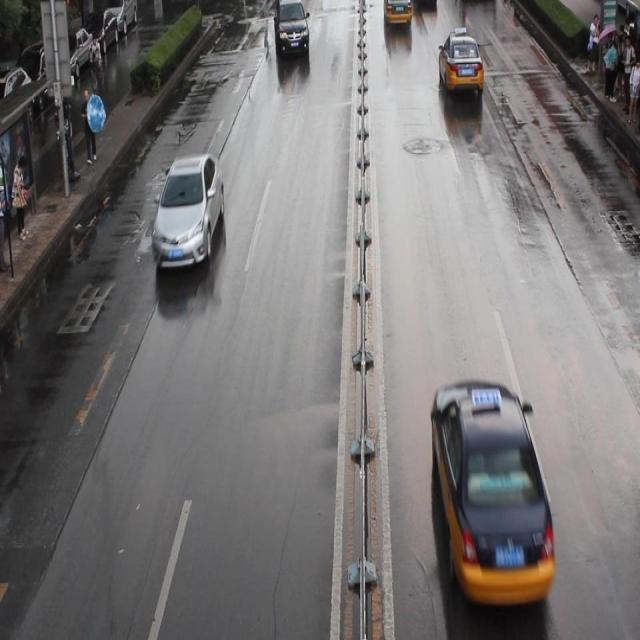car: (430, 378, 556, 600), (153, 155, 223, 273), (437, 31, 483, 94), (273, 1, 309, 57), (382, 1, 411, 27)
